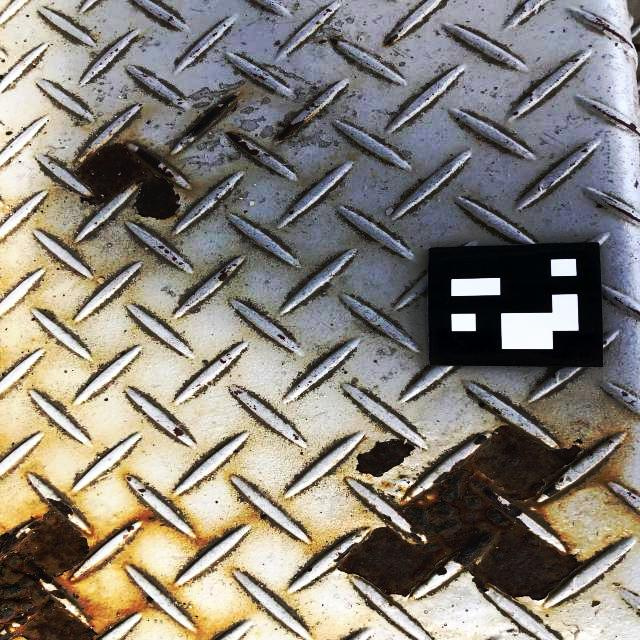Corrosion: (337, 426, 582, 601), (0, 498, 97, 640), (74, 143, 186, 222), (356, 438, 415, 478), (186, 94, 239, 137), (275, 121, 305, 143), (225, 131, 246, 154)
